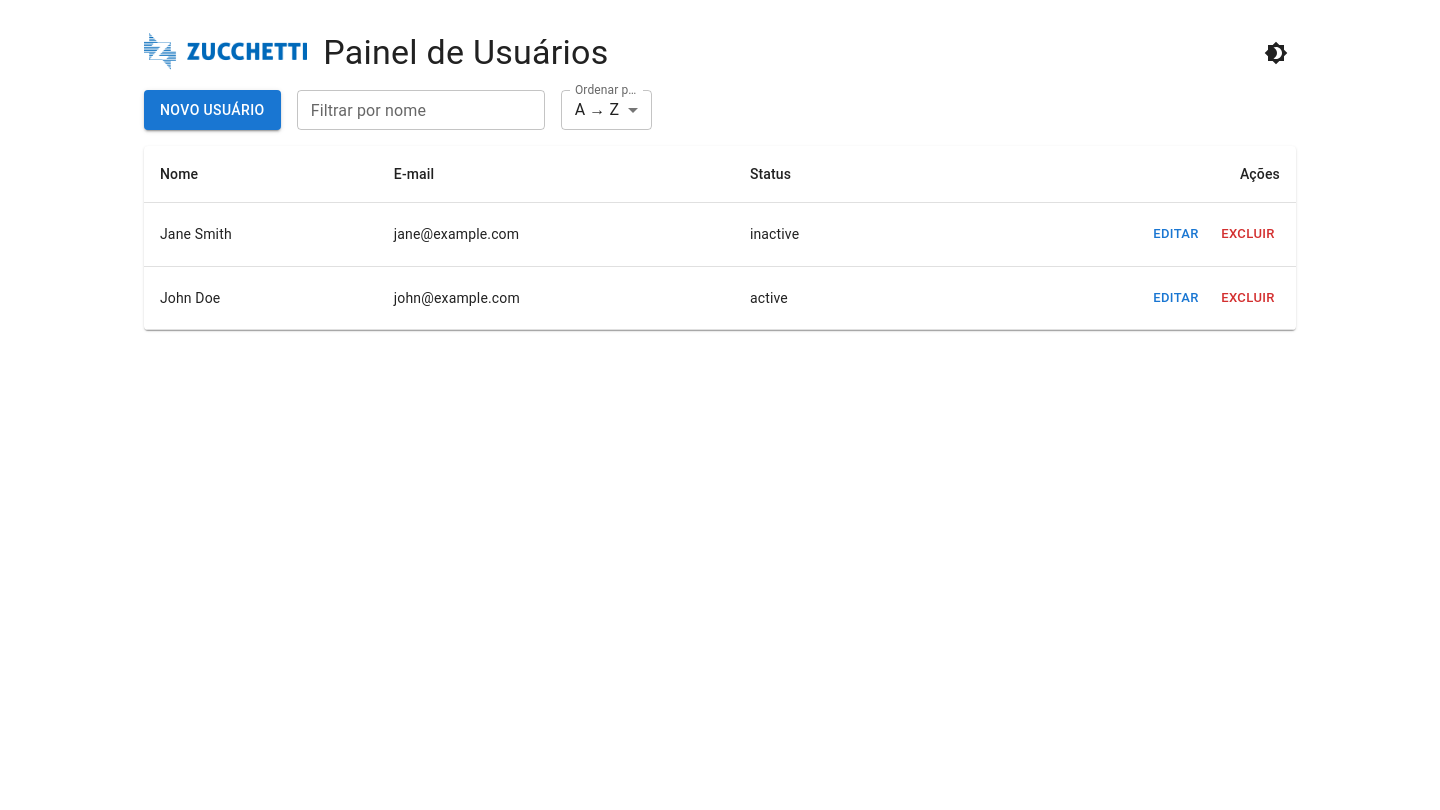
it: UsersPage › cria um novo usuário através do formulário
Expected: the text "John Doe" is shown, [144, 266, 378, 330]
Click the button "Novo usuário" at (212, 110), box [144, 90, 281, 130]
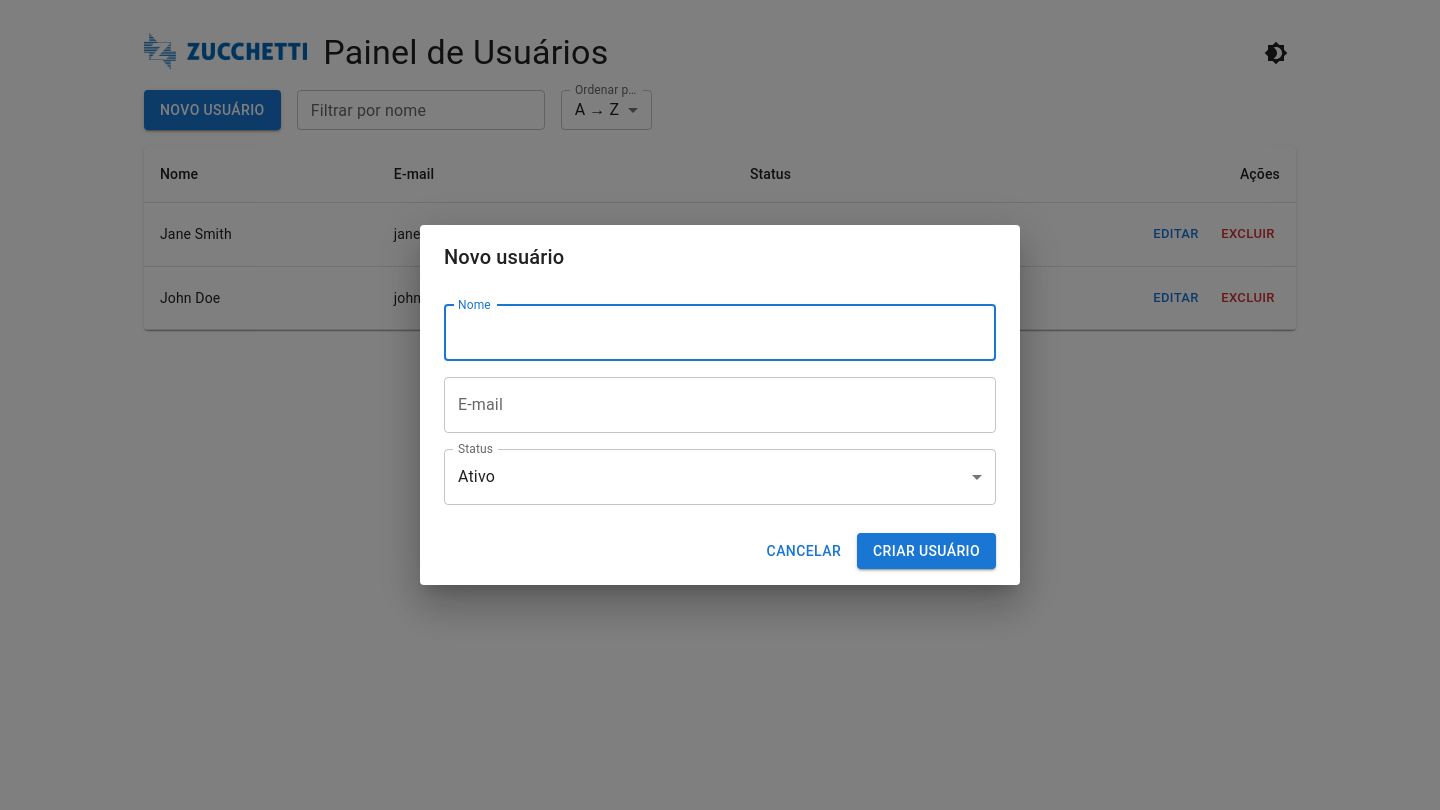
Type "Novo Usuário" into the field labelled "Nome" at (720, 333), box [444, 305, 996, 361]
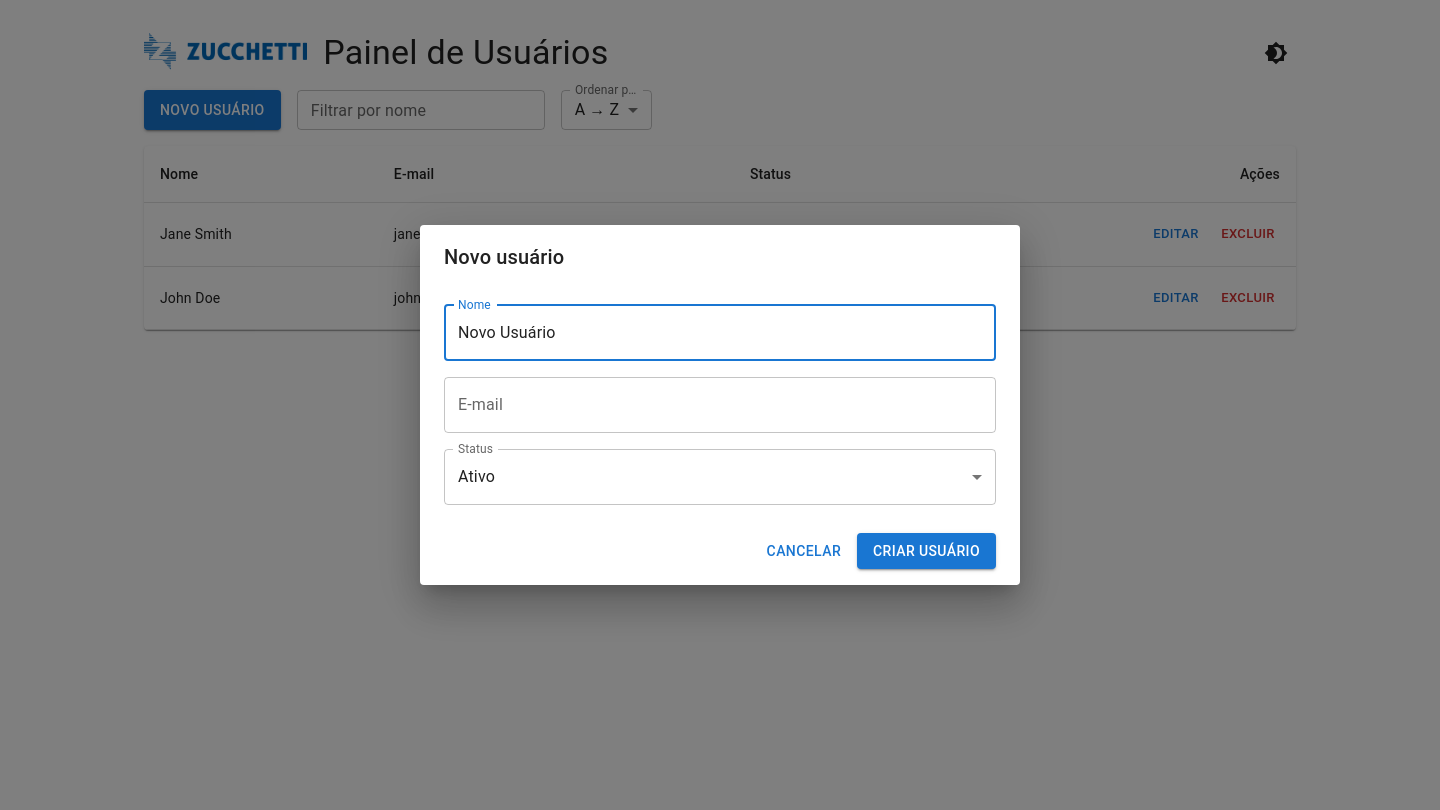
Type "novo@example.com" into the field labelled "E-mail" at (720, 405), box [444, 377, 996, 433]
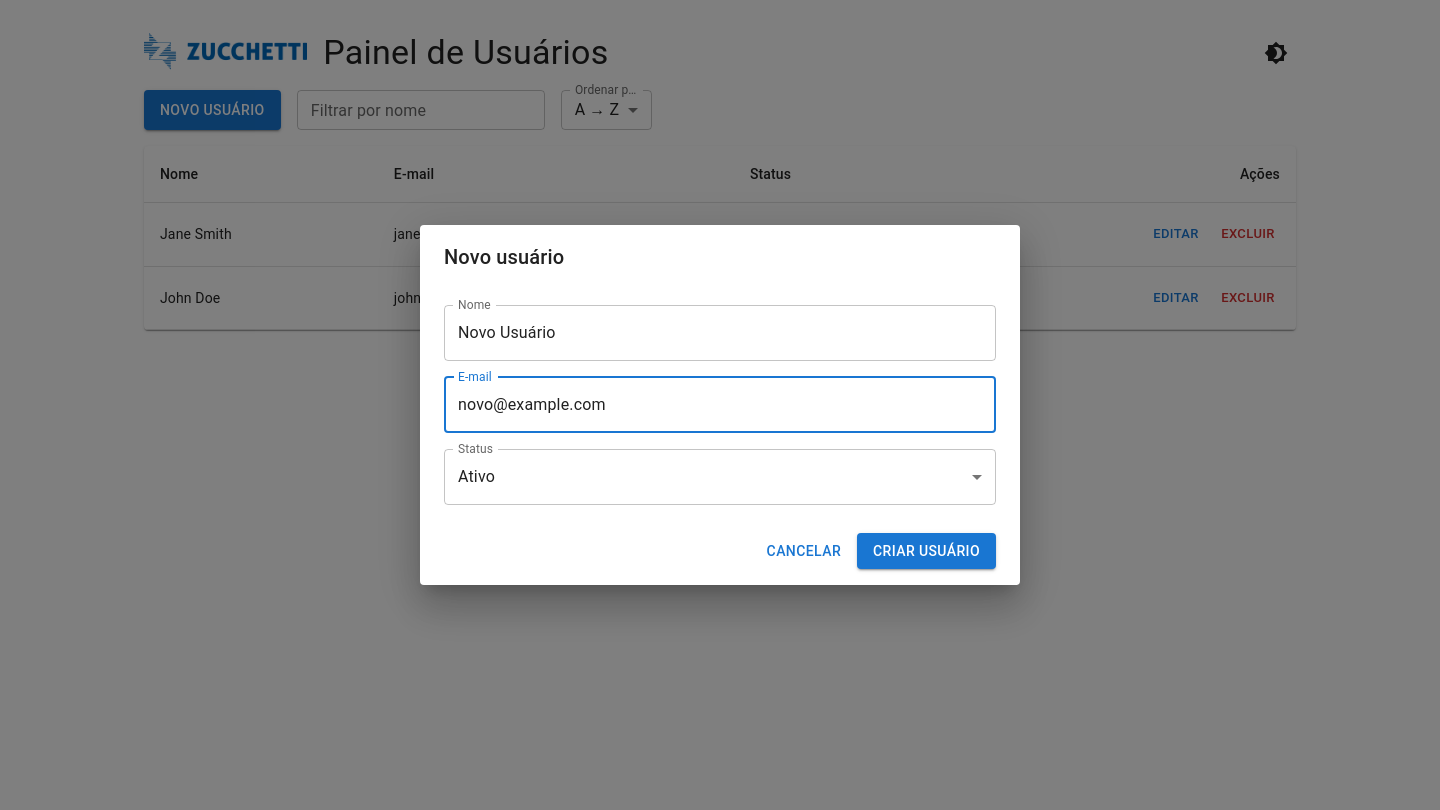
Click the button "Criar usuário" at (926, 551), box [857, 533, 996, 569]
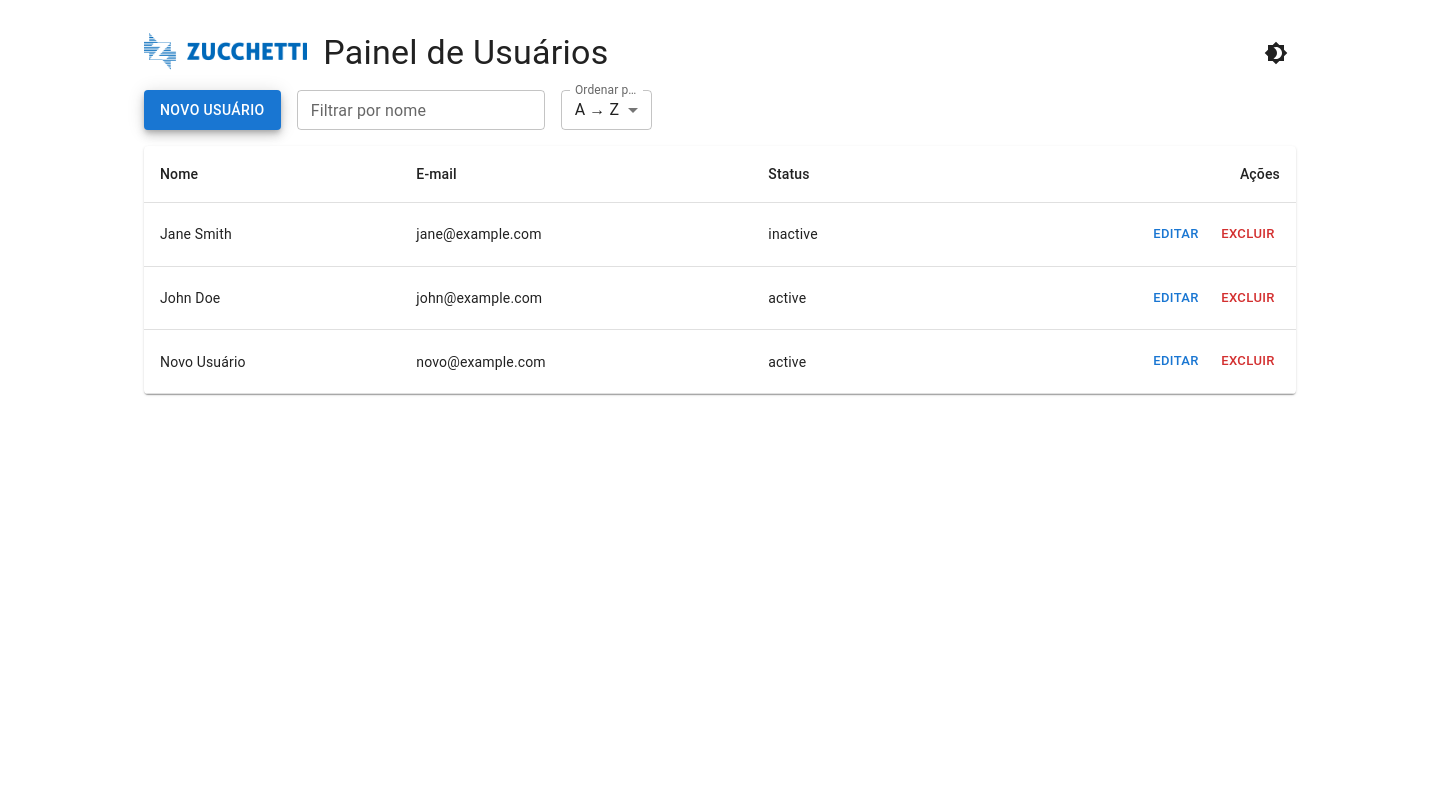
Result: the text "Novo Usuário" is shown at [144, 330, 400, 394]
Result: the text "novo@example.com" is shown at [400, 330, 752, 394]
